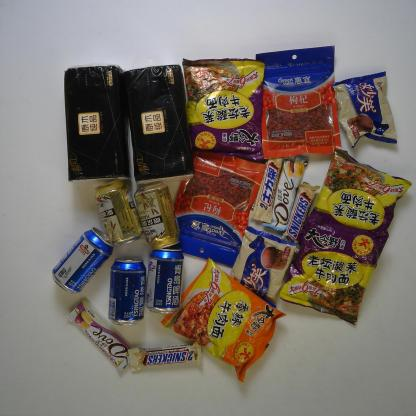Alcohol: (50, 227, 112, 292), (92, 180, 142, 246), (134, 182, 182, 248), (144, 250, 184, 314), (109, 257, 146, 325)
Chocolate: (65, 297, 136, 373), (264, 148, 310, 232), (249, 145, 286, 223), (126, 340, 203, 373), (282, 181, 320, 247)
Dessert: (223, 226, 296, 309), (332, 72, 398, 148)
Dried Fruit: (168, 151, 266, 270), (255, 45, 343, 160)
Instant Noodles: (159, 258, 286, 381), (279, 213, 389, 326), (306, 150, 413, 253), (181, 58, 266, 161)
Tissue: (119, 65, 195, 184), (64, 64, 132, 182)
